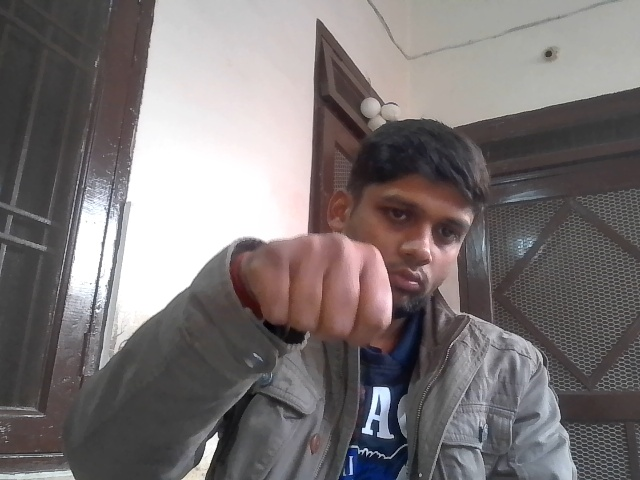Yes: (239, 219, 404, 365)
